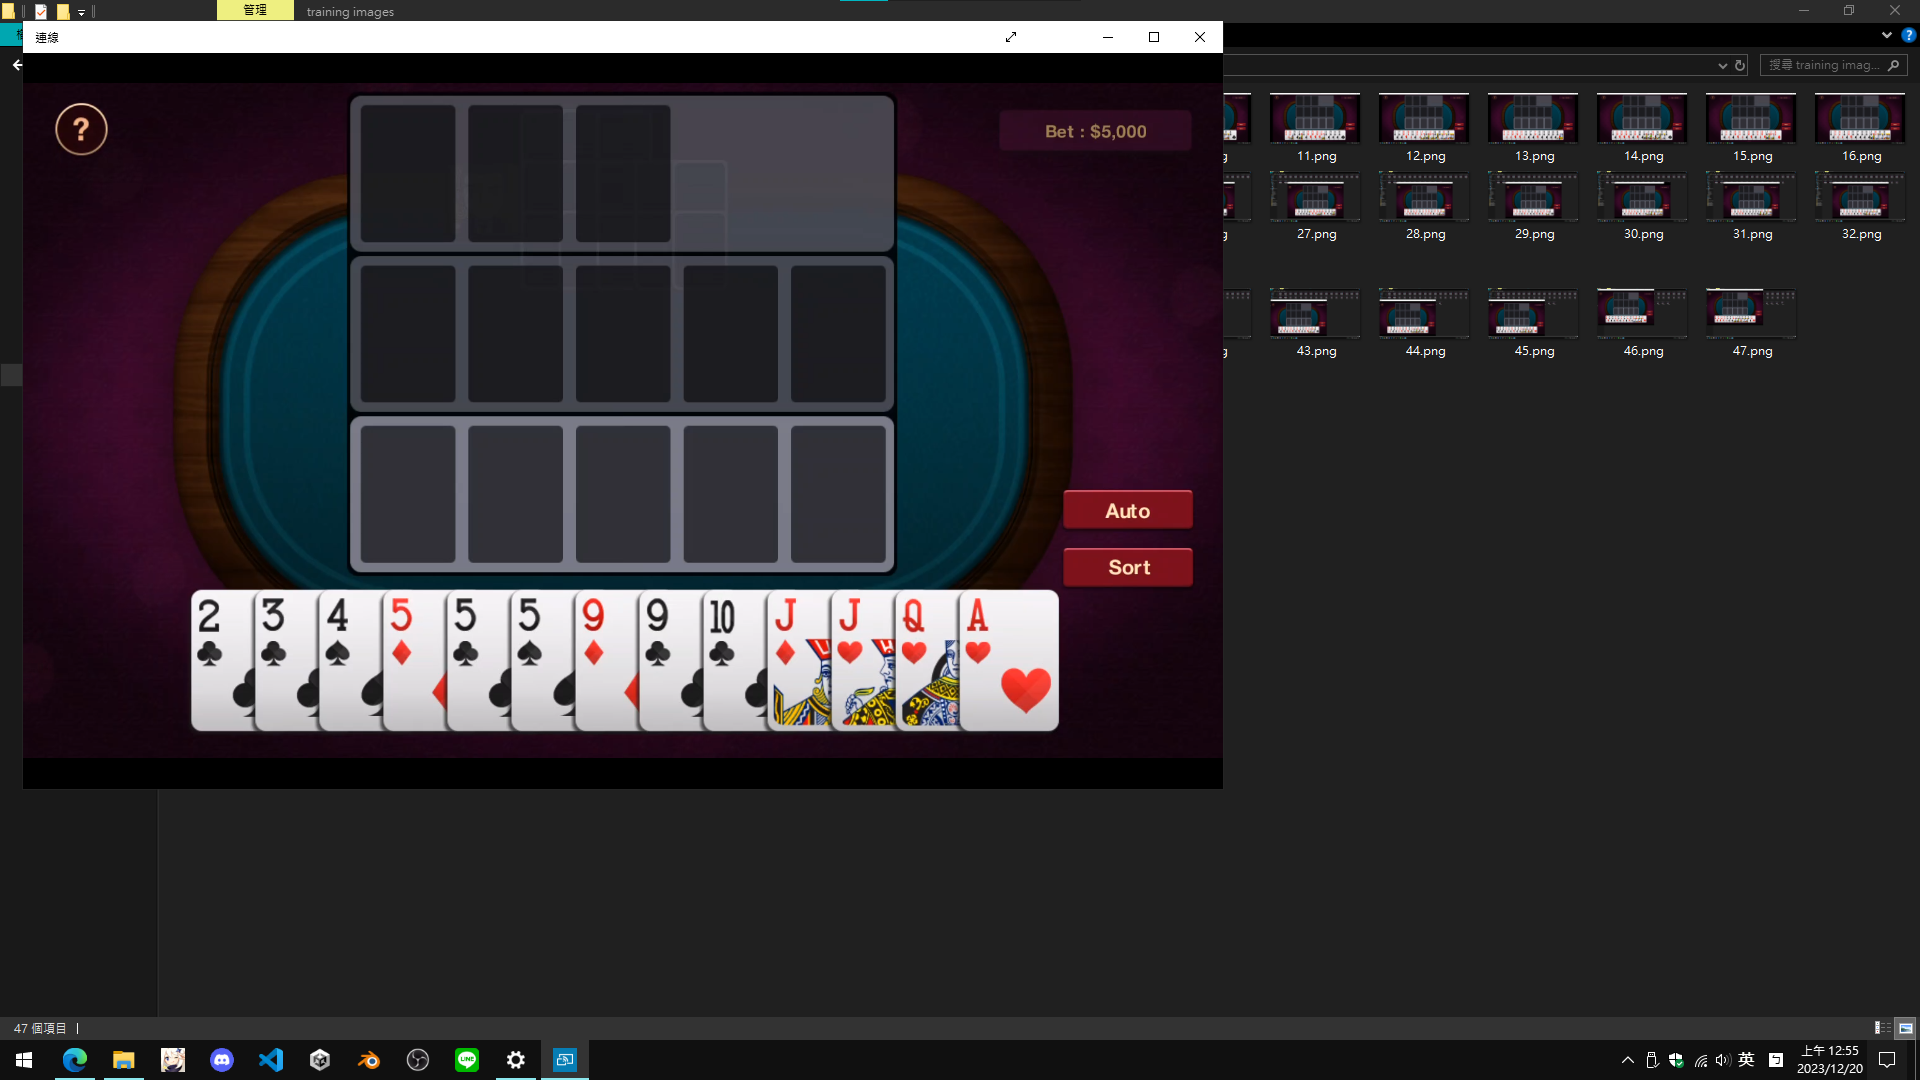10C: (708, 597, 738, 671)
2C: (194, 595, 225, 673)
3C: (258, 595, 289, 671)
4S: (322, 595, 352, 674)
5C: (451, 595, 481, 670)
5D: (388, 596, 415, 670)
5S: (516, 595, 545, 671)
9C: (644, 595, 675, 673)
9D: (579, 595, 609, 670)
AH: (964, 595, 994, 669)
JD: (773, 595, 800, 670)
JH: (836, 595, 868, 670)
QH: (901, 595, 930, 669)
